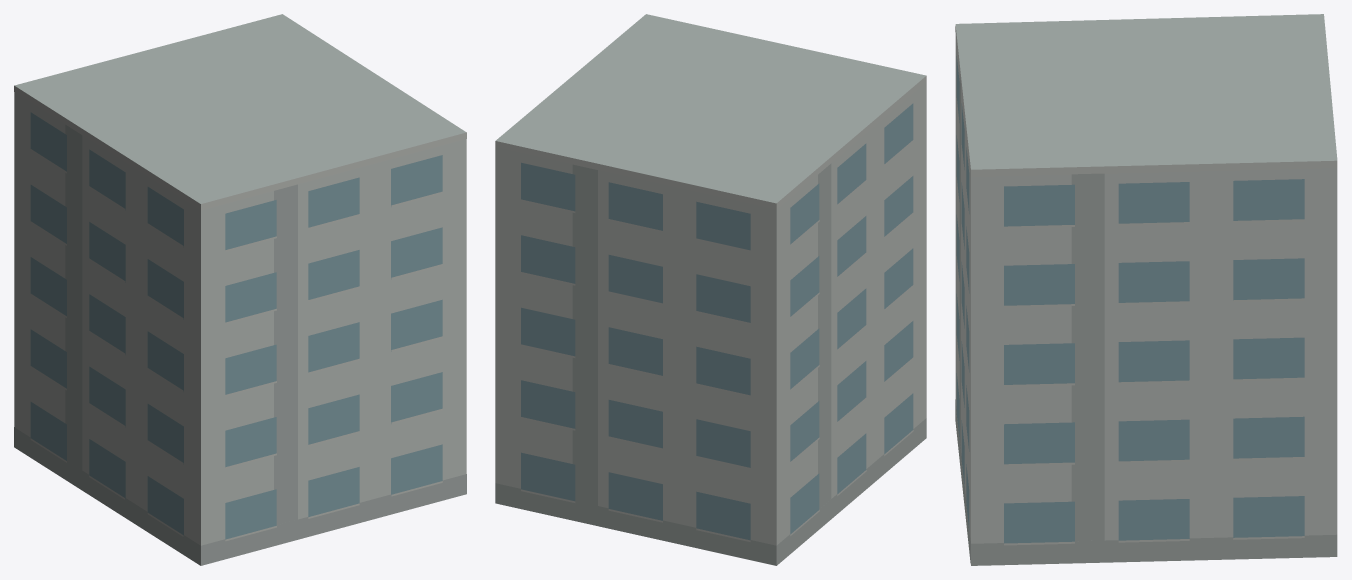
File: survey-upis-32849500.glb
The picture shows the model from 3 angles, left to right: view 1: azimuth 30°, elevation 25°; view 2: azimuth 150°, elevation 25°; view 3: azimuth 270°, elevation 25°; orthographic projection. The views are drawn at different scales.
Parts seen in each view (by area): view 1: survey-upis-32849500.tmp; view 2: survey-upis-32849500.tmp; view 3: survey-upis-32849500.tmp.
Boxes of the visible parts, bbox=[...] form: survey-upis-32849500.tmp: bbox=[14, 14, 466, 565]; survey-upis-32849500.tmp: bbox=[495, 14, 926, 565]; survey-upis-32849500.tmp: bbox=[955, 14, 1337, 565].
Bounding box in the file's own units: 11.56 × 13.7 × 11.98.
